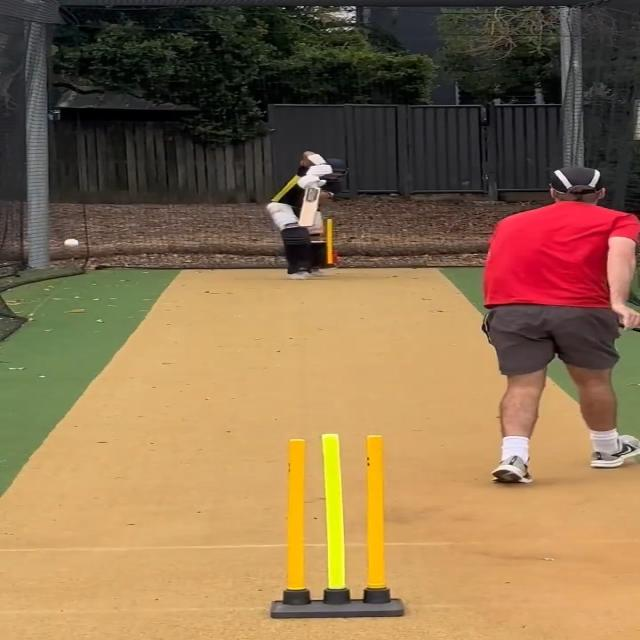ball: (63, 238, 80, 248)
stump: (269, 432, 408, 620)
